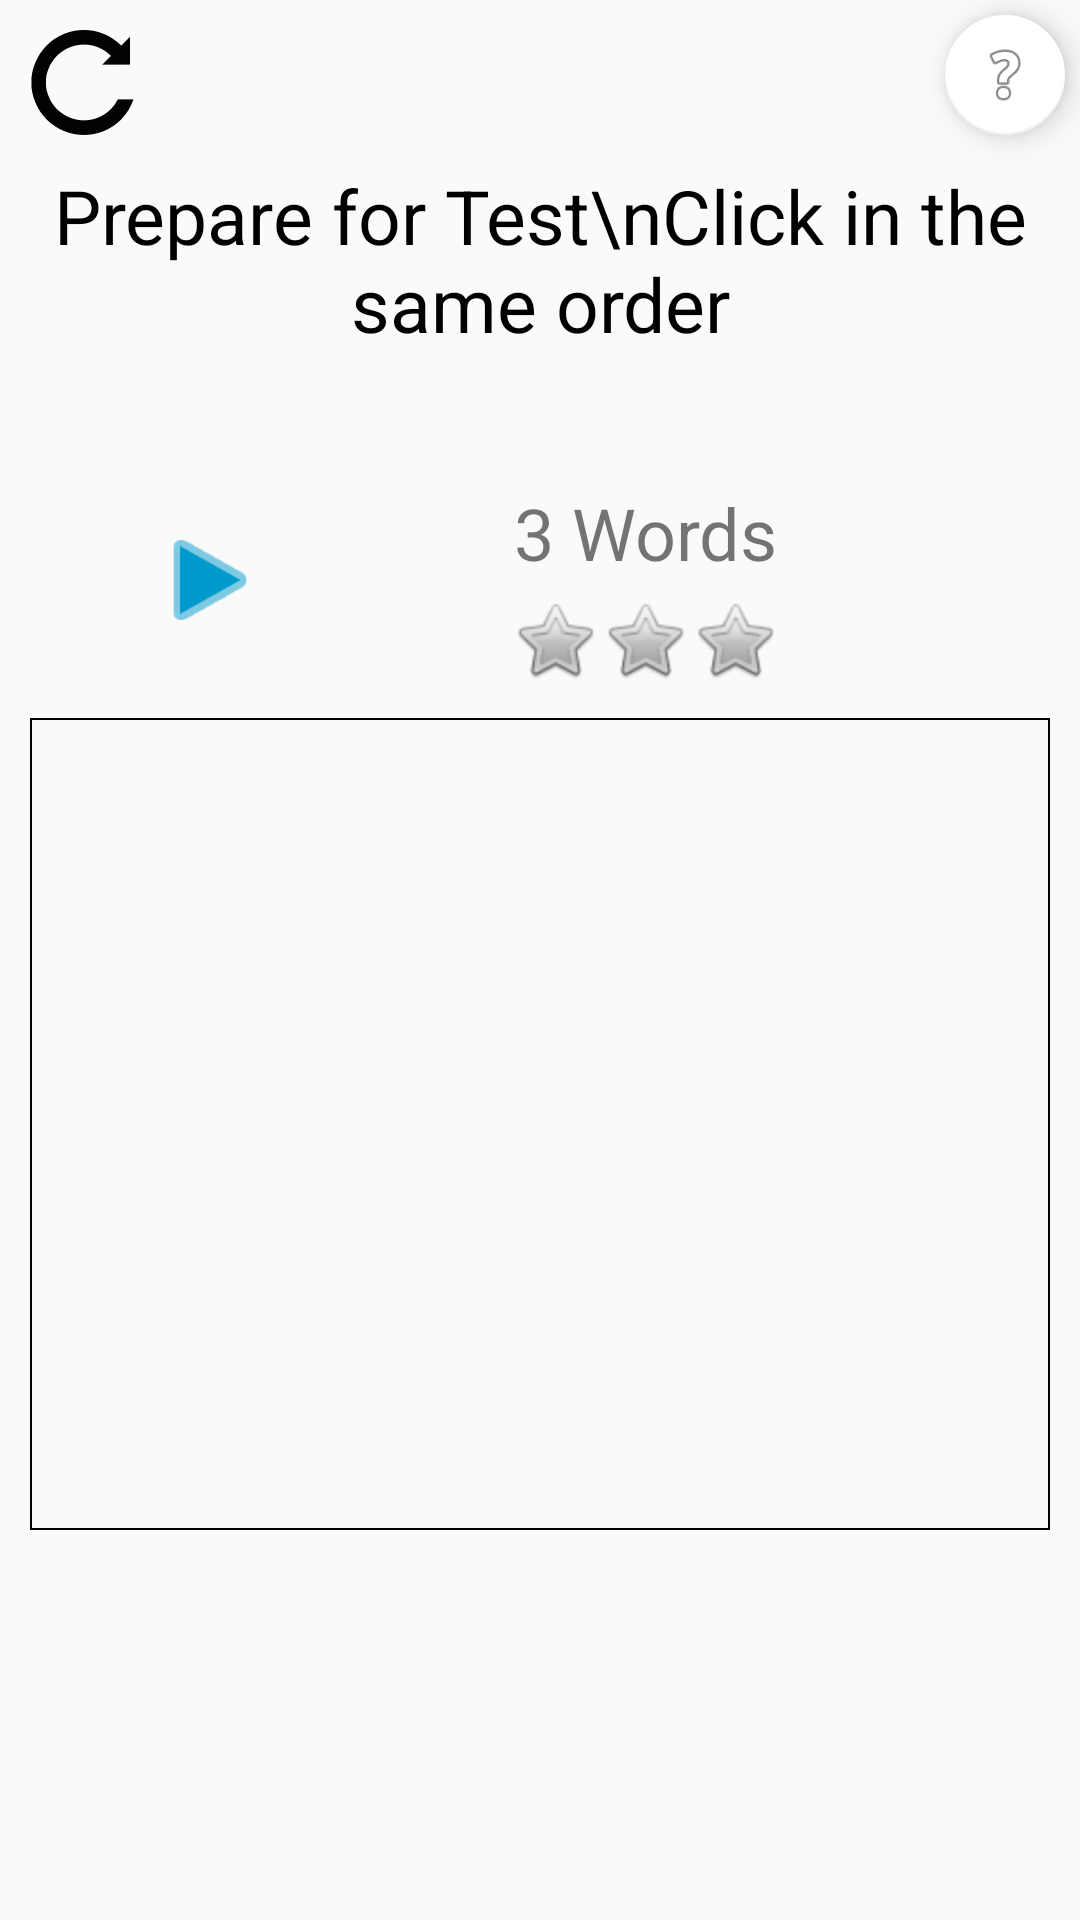

Where icons sit on this 1080*1920 app screen, as bbox=(x1, y1, x2, y2):
help: bbox=(945, 15, 1065, 135)
play: bbox=(173, 540, 247, 620)
star: bbox=(518, 604, 593, 677), bbox=(608, 604, 683, 677), bbox=(698, 604, 773, 677)
